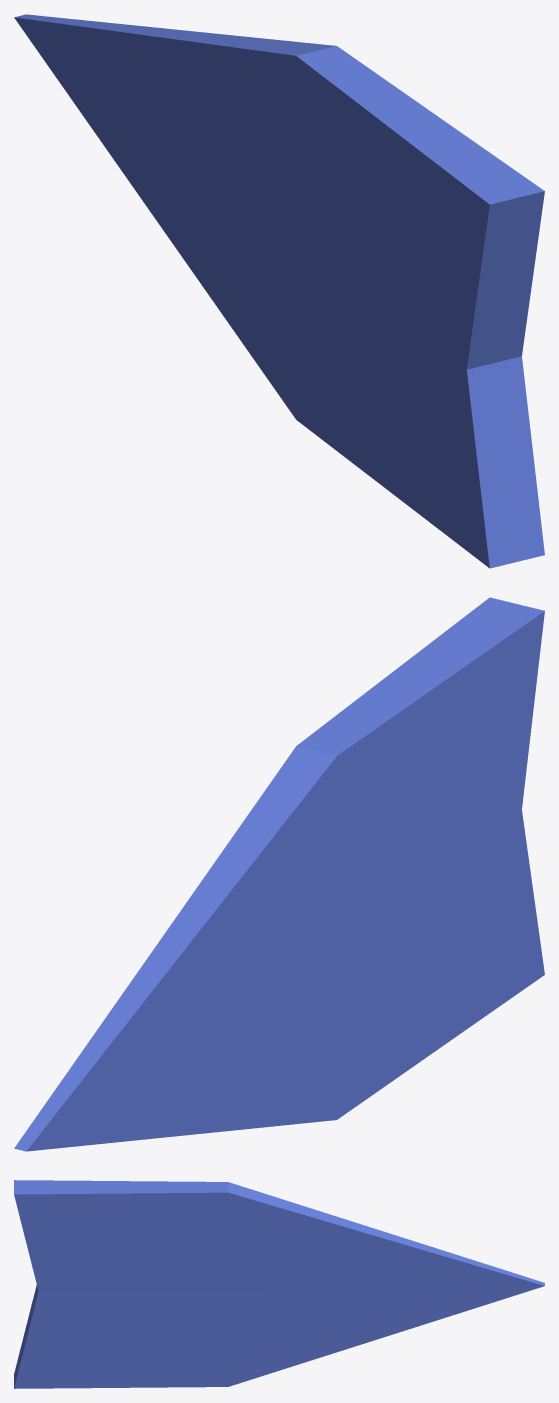
The model's file is Flag.fbx.
The picture shows the model from 3 angles, top to bottom: view 1: azimuth 30°, elevation 25°; view 2: azimuth 150°, elevation 25°; view 3: azimuth 270°, elevation 25°; orthographic projection. The views are drawn at different scales.
Parts seen in each view (by area): view 1: Cube; view 2: Cube; view 3: Cube.
Part boxes in pixels (x1=…): Cube: x1=14, y1=14, x2=544, y2=568; Cube: x1=14, y1=597, x2=544, y2=1151; Cube: x1=14, y1=1180, x2=544, y2=1388.
Bounding box in the file's own units: 31.72 × 200 × 495.
